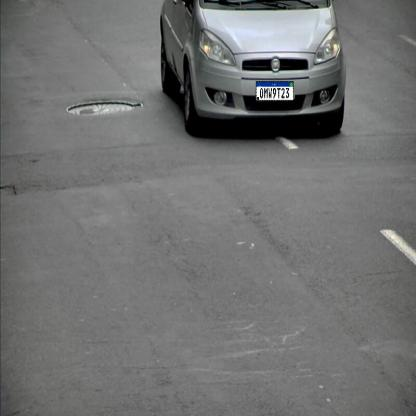PlacaM: (256, 81, 294, 101)
